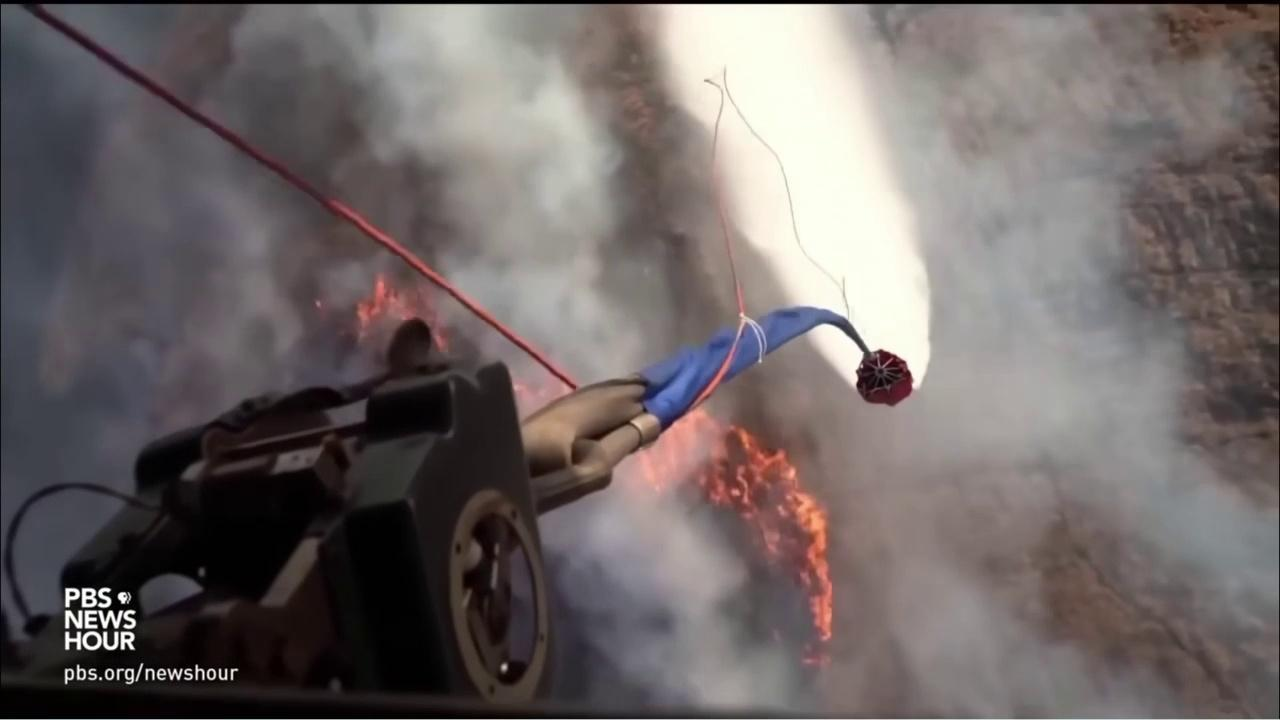fire: (630, 406, 833, 670), (341, 273, 457, 354), (507, 371, 575, 421)
smoke: (3, 4, 1278, 720)
